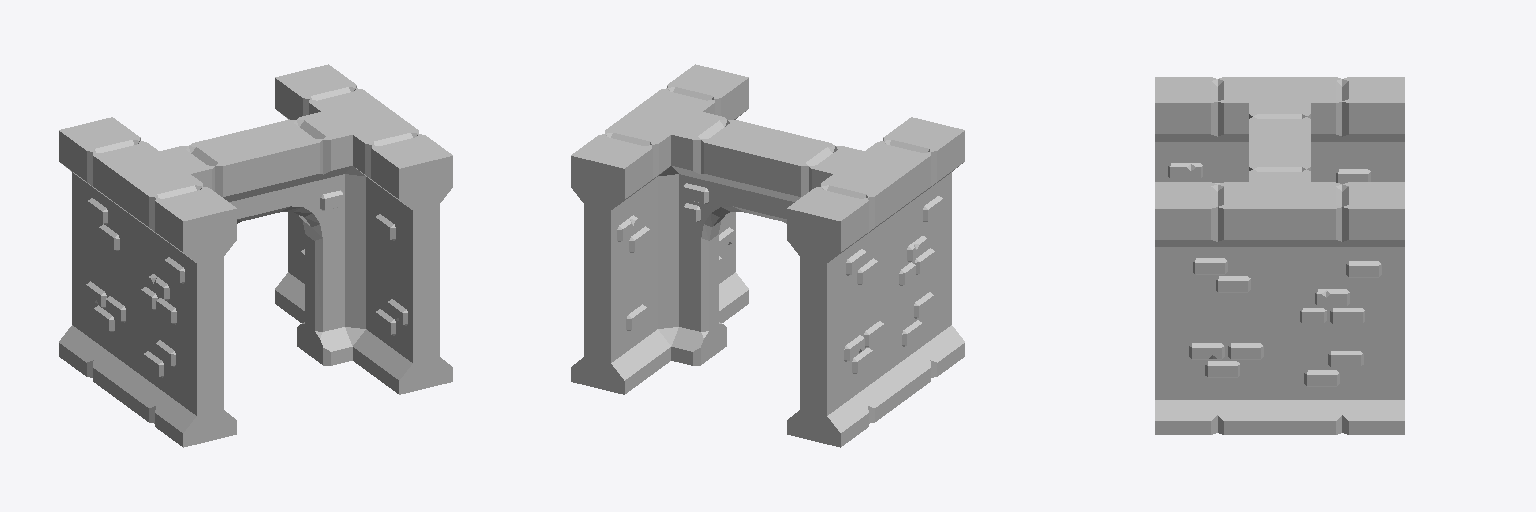
Rendered from wall_doorway_sides.obj.
The picture shows the model from 3 angles: view 1: azimuth 30°, elevation 25°; view 2: azimuth 150°, elevation 25°; view 3: azimuth 270°, elevation 25°; orthographic projection.
Visible parts, largest first — view 1: wall_doorway_sides_Cube.553; view 2: wall_doorway_sides_Cube.553; view 3: wall_doorway_sides_Cube.553.
Part boxes in pixels (bbox=[...]): wall_doorway_sides_Cube.553: bbox=[59, 64, 452, 447]; wall_doorway_sides_Cube.553: bbox=[571, 64, 964, 447]; wall_doorway_sides_Cube.553: bbox=[1155, 77, 1404, 434].
Size of the model in its own units: 5 by 4 by 4.